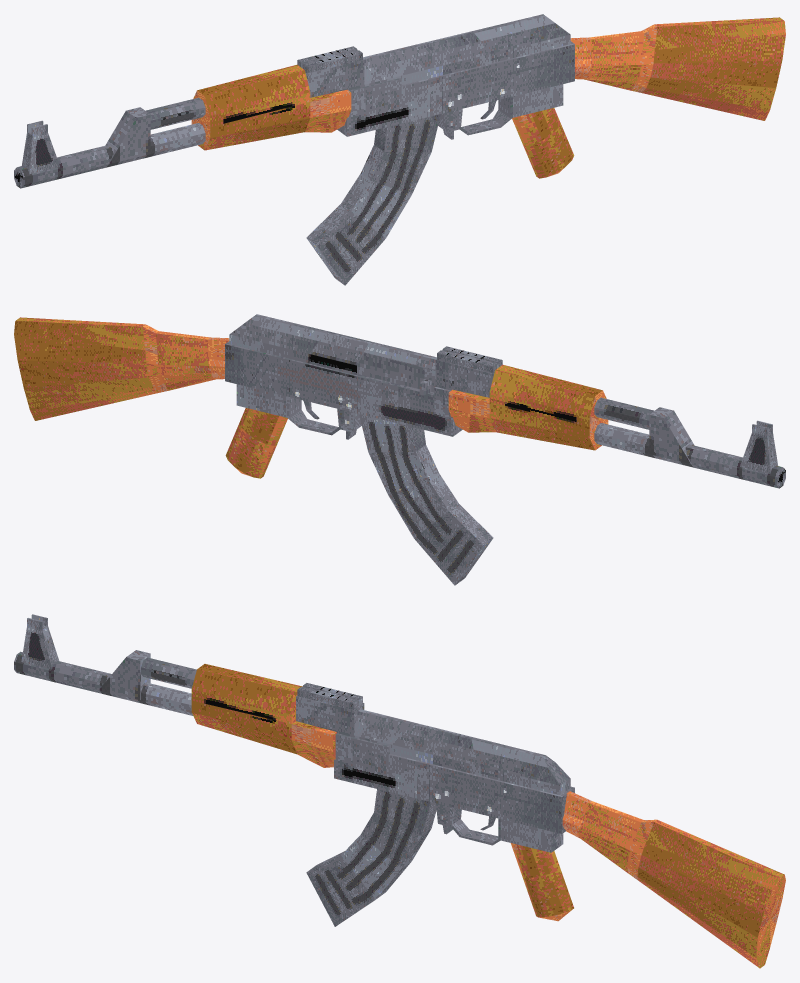
File: quick_AK47_2.glb
3 views of the same model, one above another, from view 1: azimuth 30°, elevation 25°; view 2: azimuth 150°, elevation 25°; view 3: azimuth 330°, elevation 25° (orthographic).
Visible parts, largest first — view 1: cube.001, cone, cube.002, cylinder, barrel, grip_mesh, front, rear; view 2: cube.001, cone, cube.002, cylinder, barrel, grip_mesh, cube, front, rear; view 3: cube.001, cone, cube.002, cylinder, barrel, grip_mesh, front, rear.
Boxes of the visible parts, x1,y1,x2,y2 form: cube.001: (305, 14, 574, 139); cone: (570, 17, 785, 120); cube.002: (306, 114, 440, 285); cylinder: (191, 64, 351, 150); barrel: (14, 97, 205, 188); grip_mesh: (512, 108, 574, 178); front: (22, 120, 59, 174); rear: (297, 46, 362, 73); cube.001: (225, 314, 494, 439); cone: (14, 317, 229, 420); cube.002: (359, 414, 493, 585); cylinder: (448, 364, 608, 450); barrel: (594, 397, 785, 488); grip_mesh: (225, 408, 287, 478); cube: (357, 353, 435, 395); front: (740, 420, 777, 474); rear: (437, 346, 502, 373); cube.001: (296, 696, 574, 852); cone: (562, 791, 785, 968); cube.002: (306, 789, 436, 926); cylinder: (191, 664, 336, 767); barrel: (14, 650, 196, 715); grip_mesh: (510, 843, 573, 921); front: (21, 614, 59, 669); rear: (297, 683, 362, 709).
Bounding box in the file's own units: 0.8768 × 0.2538 × 0.0401.
9 materials, 9 textured.
